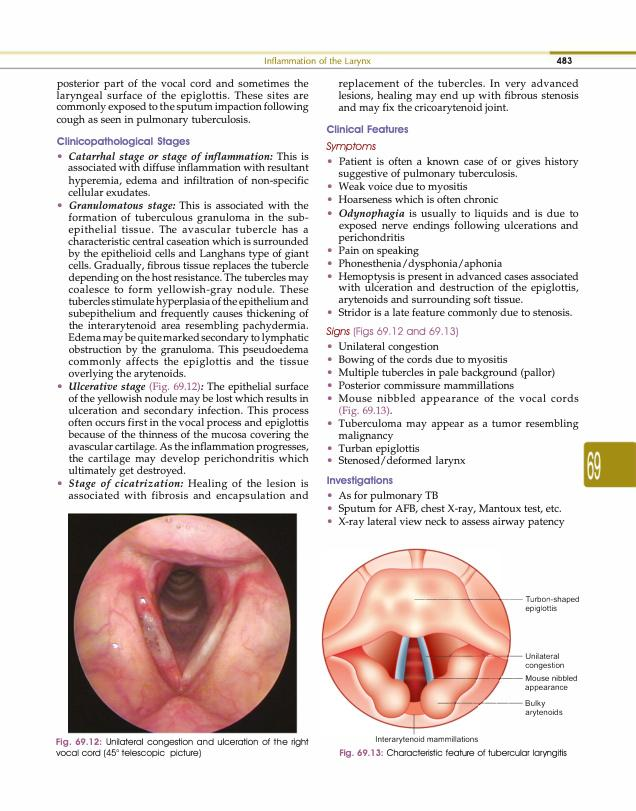caption: (54, 737, 310, 760), (339, 748, 568, 759)
header: (263, 56, 372, 67)
image: (316, 541, 591, 746), (67, 511, 299, 735)
list: (56, 149, 310, 504), (326, 156, 580, 320), (326, 341, 580, 469), (325, 489, 566, 530), (337, 77, 579, 116)
sub-section-heading: (67, 151, 273, 163), (56, 135, 191, 148), (68, 199, 176, 212), (68, 478, 184, 490), (68, 381, 146, 394), (326, 123, 410, 135), (326, 475, 394, 487), (325, 141, 377, 153), (325, 325, 351, 338)
text: (55, 78, 311, 127)
